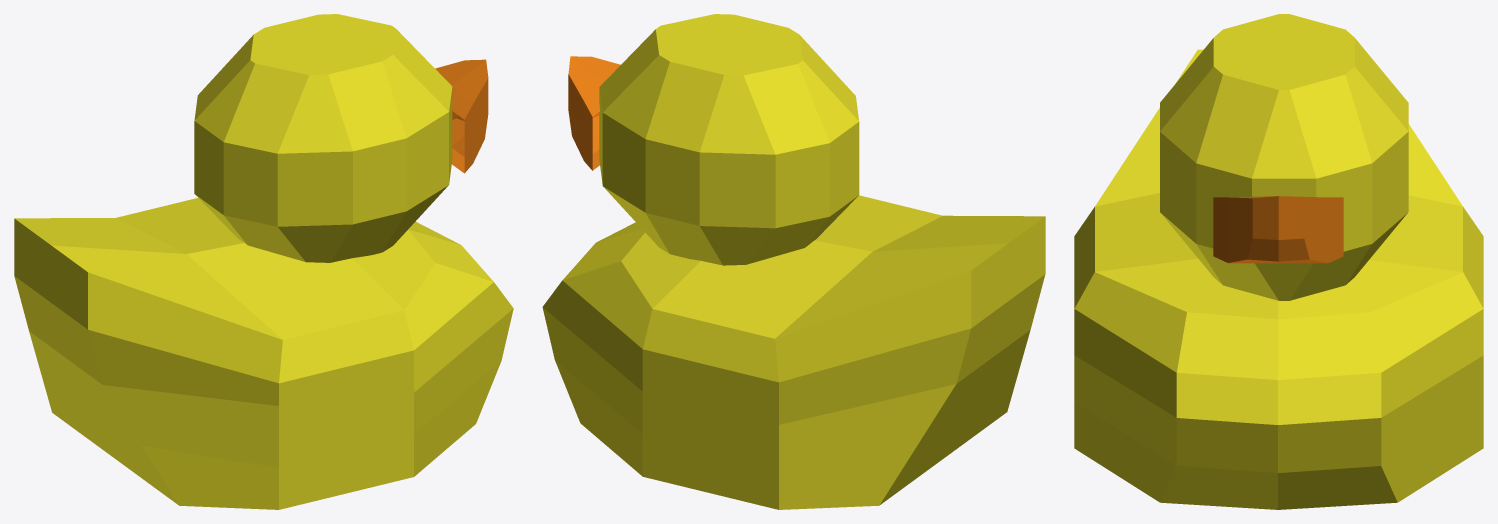
File: lowpoly duck.fbx
3 views of the same model, side by side, from view 1: azimuth 30°, elevation 25°; view 2: azimuth 150°, elevation 25°; view 3: azimuth 270°, elevation 25° (orthographic). The views are drawn at different scales.
Parts seen in each view (by area): view 1: Cube.002; view 2: Cube.002; view 3: Cube.002.
Part boxes in pixels (<box>): Cube.002: <box>14,14,513,509</box>; Cube.002: <box>542,14,1045,509</box>; Cube.002: <box>1074,14,1483,509</box>.
Bounding box in the file's own units: 204 × 162 × 151.
